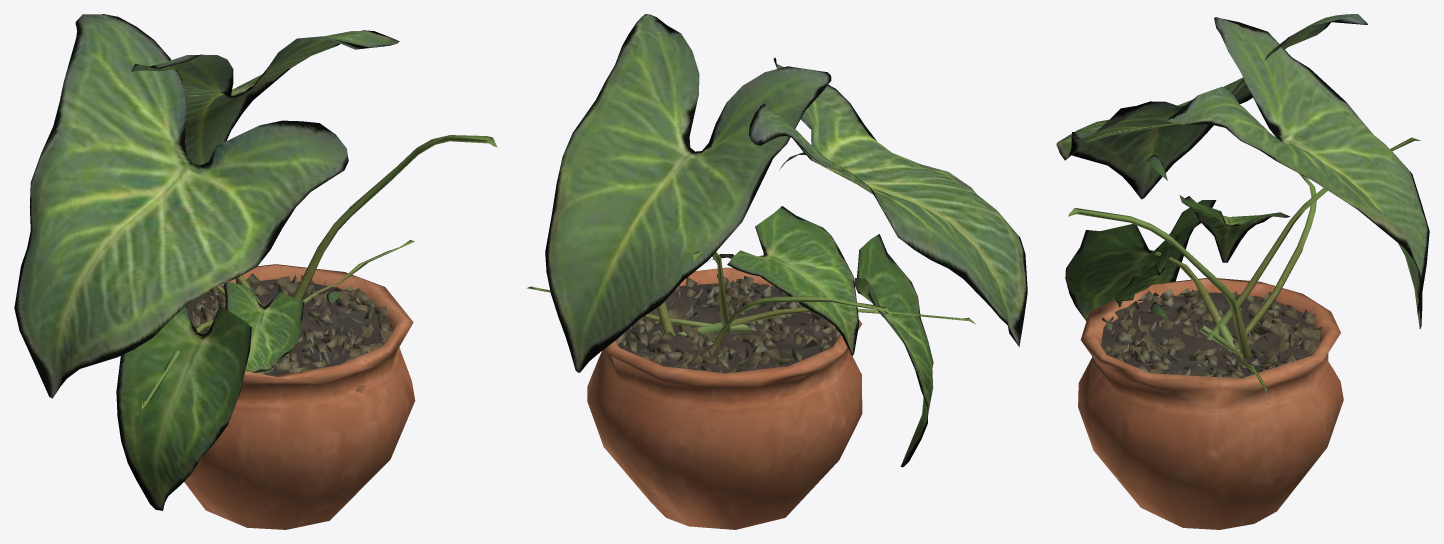
File: jardiniere_plante_b_lod1.glb
The picture shows the model from 3 angles, left to right: view 1: azimuth 30°, elevation 25°; view 2: azimuth 150°, elevation 25°; view 3: azimuth 270°, elevation 25°; orthographic projection. The views are drawn at different scales.
Parts seen in each view (by area): view 1: potted_plant_02_leaves, potted_plant_02_pot; view 2: potted_plant_02_leaves, potted_plant_02_pot; view 3: potted_plant_02_pot, potted_plant_02_leaves.
Boxes of the visible parts, box(x1,y1,x2,y2) form: potted_plant_02_leaves: box(14, 14, 497, 510); potted_plant_02_pot: box(184, 264, 415, 529); potted_plant_02_leaves: box(526, 14, 1027, 467); potted_plant_02_pot: box(587, 267, 862, 529); potted_plant_02_pot: box(1078, 278, 1343, 529); potted_plant_02_leaves: box(1056, 14, 1429, 394).
Bounding box in the file's own units: 0.8501 × 0.8533 × 0.6632.
Materials: 2 (2 with a texture image).
